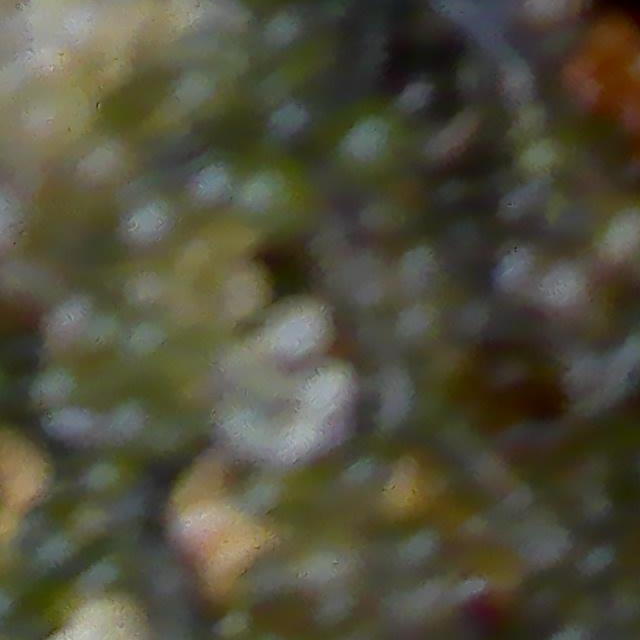SeaGrape: (334, 115, 403, 185)
